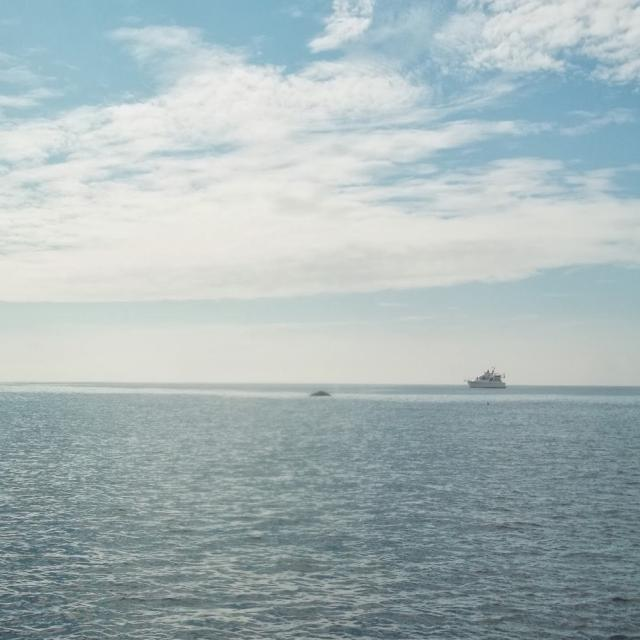houseboat: (464, 362, 510, 392)
